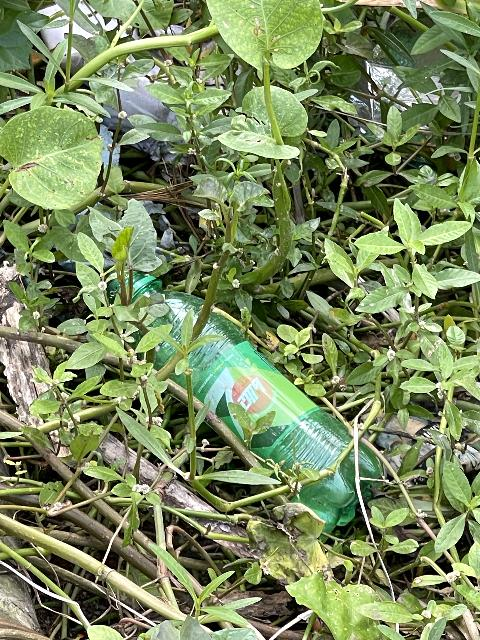bottle: (97, 267, 412, 537)
